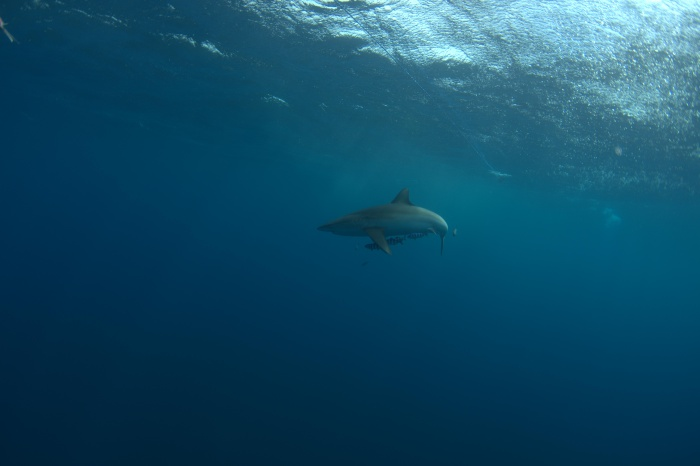Sedoso: (312, 177, 456, 262)
